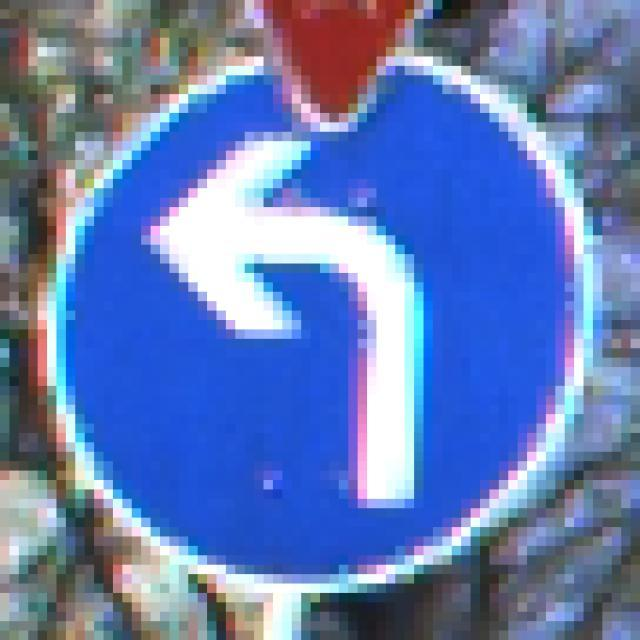compulsary turn left ahead: (46, 61, 585, 590)
